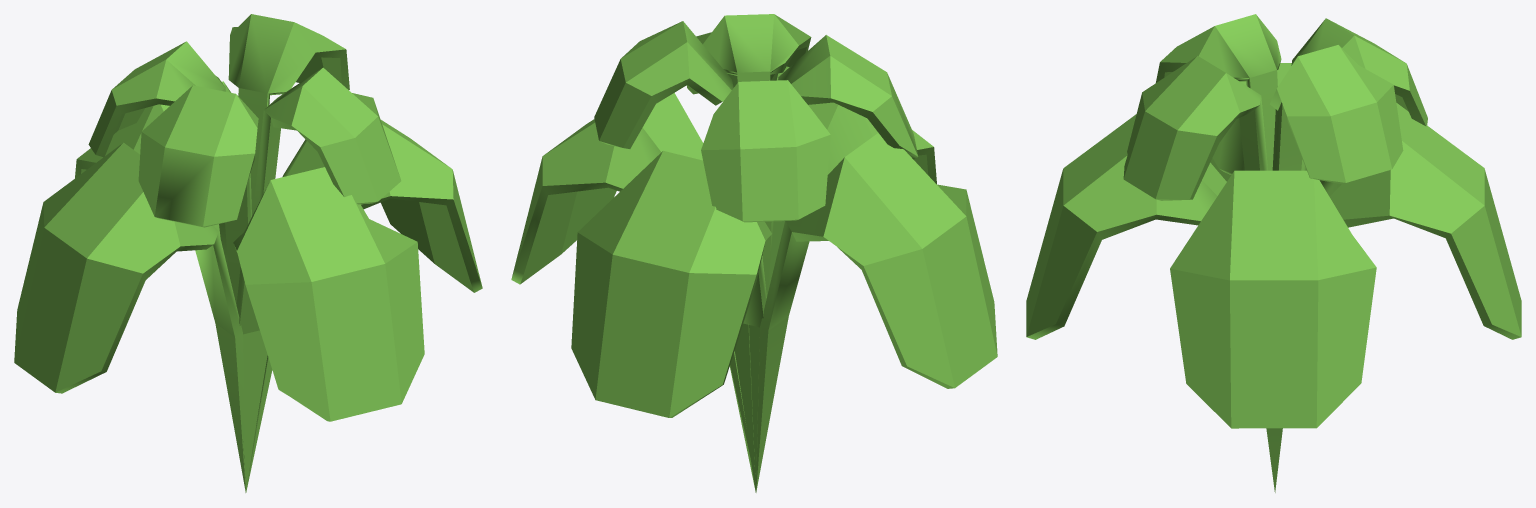
File: Crop.fbx
3 views of the same model, side by side, from view 1: azimuth 30°, elevation 25°; view 2: azimuth 150°, elevation 25°; view 3: azimuth 270°, elevation 25° (orthographic). The views are drawn at different scales.
Visible parts, largest first — view 1: Crop; view 2: Crop; view 3: Crop.
Boxes of the visible parts, box(x1,y1,x2,y2) form: Crop: box(14, 14, 482, 492); Crop: box(511, 14, 997, 492); Crop: box(1026, 14, 1521, 492).
Size of the model in its own units: 30.65 by 30.79 by 29.55.
